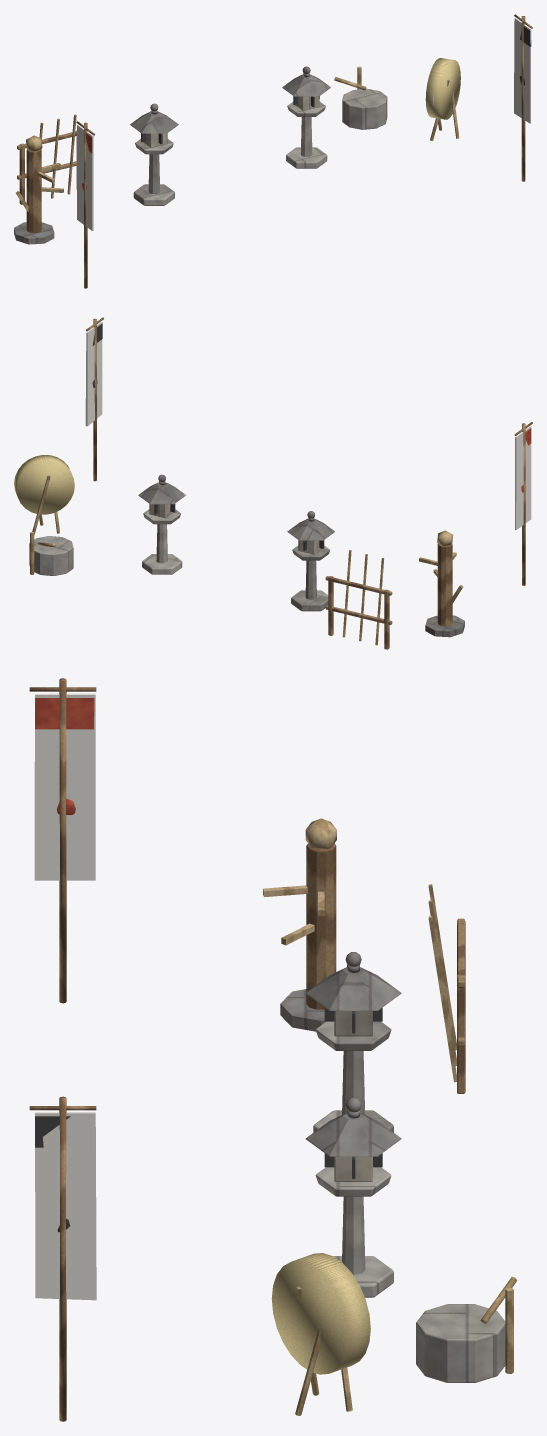
File: stage_props_overdare.fbx
3 renders of one model, top to bottom at view 1: azimuth 30°, elevation 25°; view 2: azimuth 150°, elevation 25°; view 3: azimuth 270°, elevation 25°, orthographic. The views are drawn at different scales.
Parts seen in each view (by area): view 1: stage_props; view 2: stage_props; view 3: stage_props.
Boxes of the visible parts, x1,y1,x2,y2 form: stage_props: (14, 14, 532, 288); stage_props: (14, 317, 532, 649); stage_props: (29, 678, 516, 1421).
Bounding box in the file's own units: 949 × 331 × 453.
Materials: 1 (1 with a texture image).
